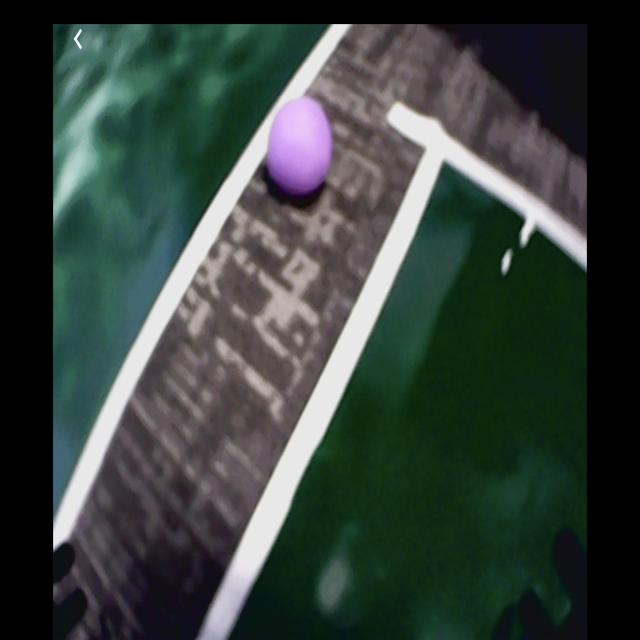ball: (269, 97, 333, 194)
